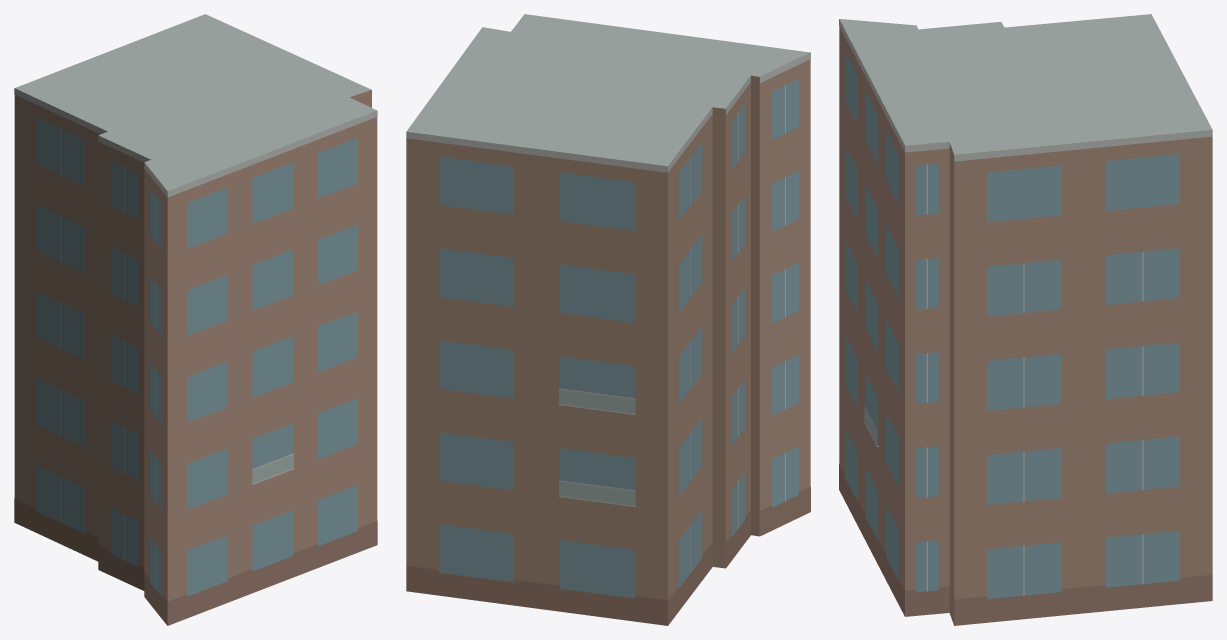
Rendered from survey-upis-33024685.glb.
The picture shows the model from 3 angles, left to right: view 1: azimuth 30°, elevation 25°; view 2: azimuth 150°, elevation 25°; view 3: azimuth 270°, elevation 25°; orthographic projection. The views are drawn at different scales.
Visible parts, largest first — view 1: survey-upis-33024685.tmp; view 2: survey-upis-33024685.tmp; view 3: survey-upis-33024685.tmp.
Part boxes in pixels (box(x1,y1,x2,y2)): survey-upis-33024685.tmp: box(14, 14, 377, 625); survey-upis-33024685.tmp: box(406, 14, 810, 625); survey-upis-33024685.tmp: box(839, 14, 1212, 625).
Size of the model in its own units: 11.05 by 17.2 by 12.38.
